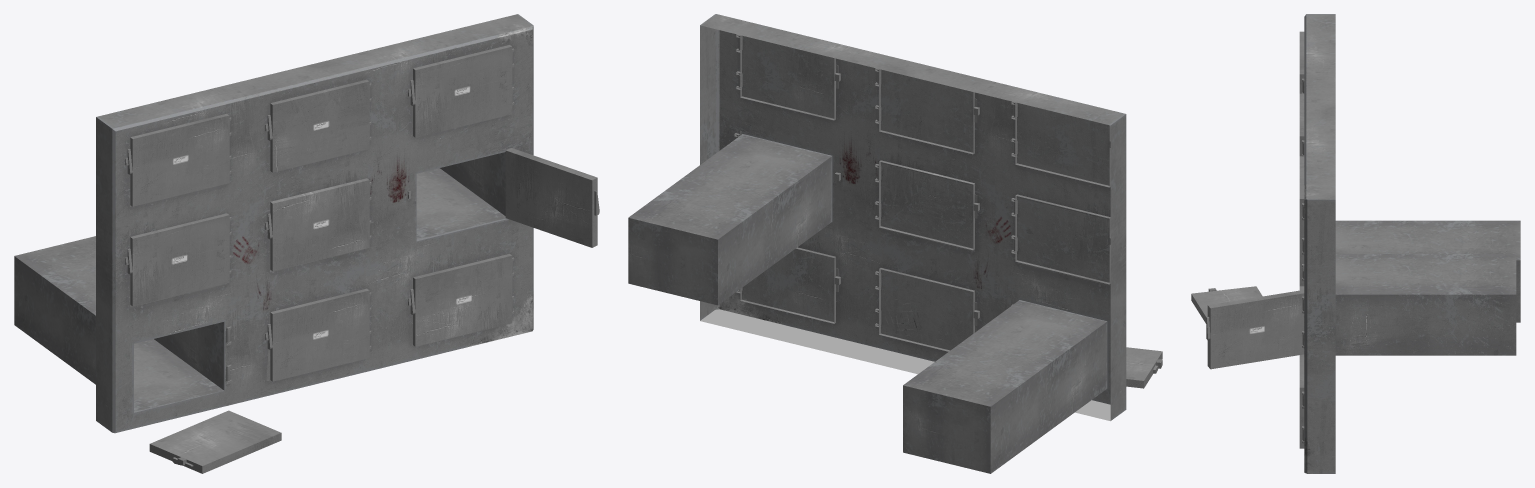
The model's file is body_lockers.glb.
The picture shows the model from 3 angles, left to right: view 1: azimuth 30°, elevation 25°; view 2: azimuth 150°, elevation 25°; view 3: azimuth 270°, elevation 25°; orthographic projection. The views are drawn at different scales.
Visible parts, largest first — view 1: body_lockers_0, body_lockers_1; view 2: body_lockers_0, body_lockers_1; view 3: body_lockers_0, body_lockers_1.
Boxes of the visible parts, x1,y1,x2,y2 form: body_lockers_0: (14,14,533,433); body_lockers_1: (125,45,599,473); body_lockers_0: (628,14,1126,473); body_lockers_1: (734,34,1162,388); body_lockers_0: (1304,14,1520,473); body_lockers_1: (1191,31,1304,448).
Bounding box in the file's own units: 4.12 × 2.77 × 3.
Materials: 2 (2 with a texture image).
